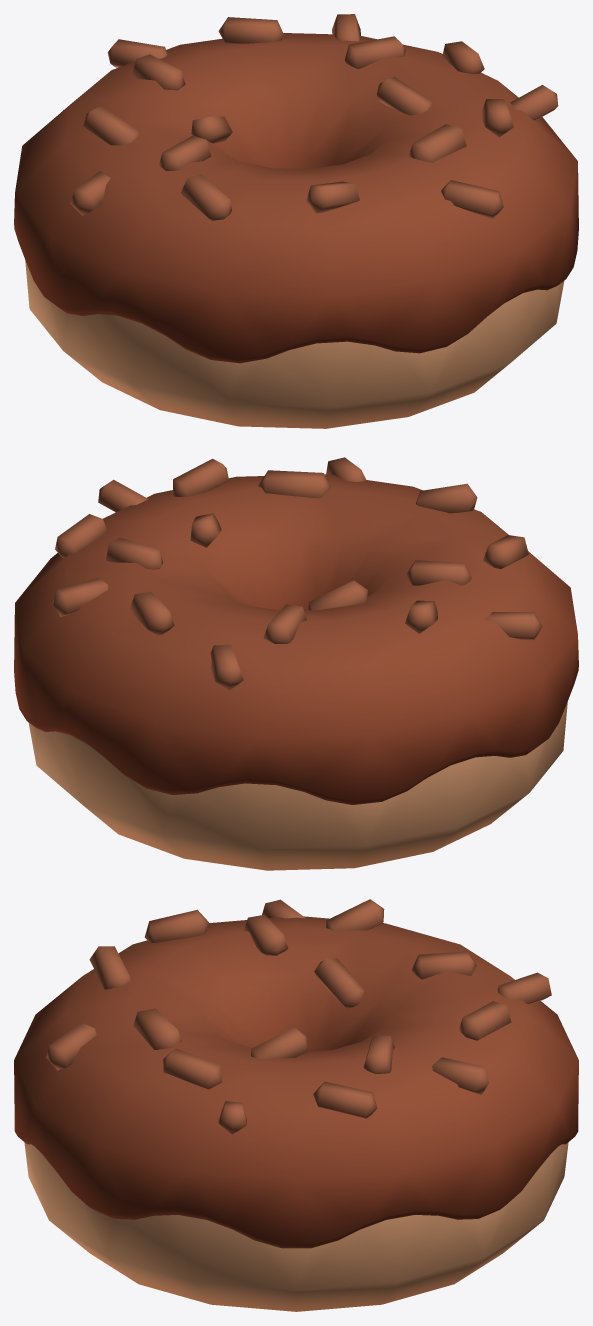
File: Donut Chocolate.glb
3 renders of one model, top to bottom at view 1: azimuth 30°, elevation 25°; view 2: azimuth 150°, elevation 25°; view 3: azimuth 270°, elevation 25°, orthographic.
Parts seen in each view (by area): view 1: donut_chocolate; view 2: donut_chocolate; view 3: donut_chocolate.
Part boxes in pixels (box(x1,y1,x2,y2)): donut_chocolate: box(14, 14, 578, 428); donut_chocolate: box(14, 457, 578, 870); donut_chocolate: box(14, 899, 578, 1311).
Bounding box in the file's own units: 0.417 × 0.2047 × 0.417.
Materials: 1 (1 with a texture image).
